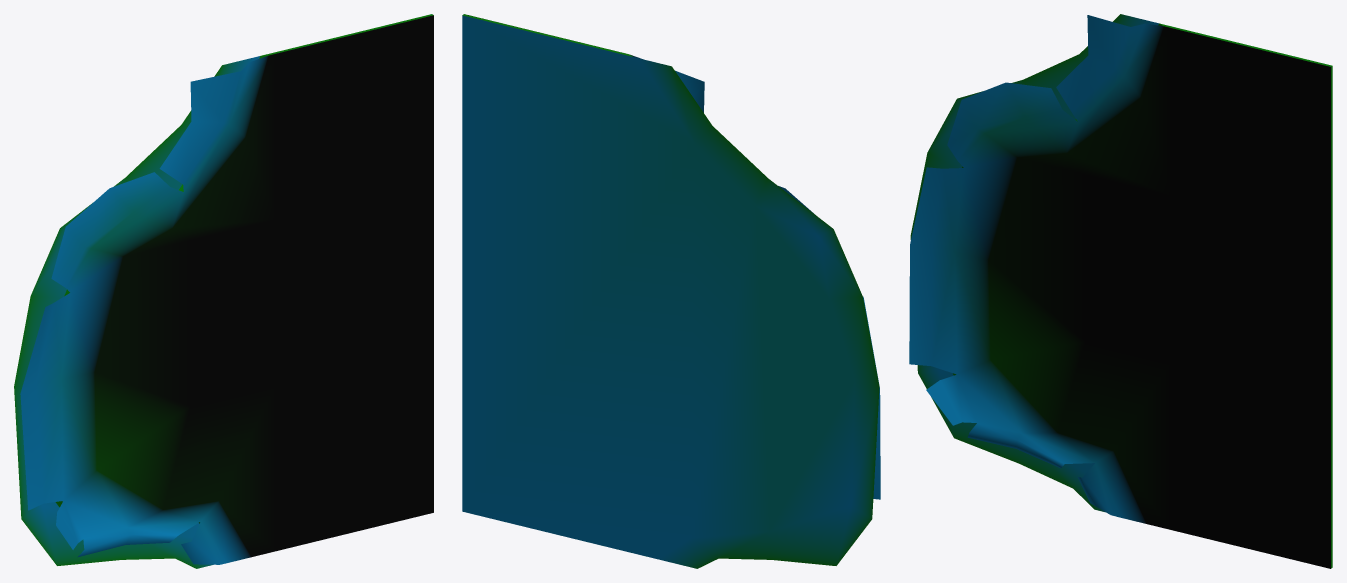
File: DBK_Drywall_Side_A_Single_Mirror.fbx
3 renders of one model, left to right at view 1: azimuth 30°, elevation 25°; view 2: azimuth 150°, elevation 25°; view 3: azimuth 330°, elevation 25°, orthographic.
Visible parts, largest first — view 1: DBK_Drywall_Side_A_Single_Mirror; view 2: DBK_Drywall_Side_A_Single_Mirror; view 3: DBK_Drywall_Side_A_Single_Mirror.
Boxes of the visible parts, box(x1,y1,x2,y2) form: DBK_Drywall_Side_A_Single_Mirror: box(14, 14, 433, 568); DBK_Drywall_Side_A_Single_Mirror: box(462, 14, 880, 568); DBK_Drywall_Side_A_Single_Mirror: box(909, 14, 1332, 568).
Size of what is drawn, in the model's own units: 264 by 300 by 14.61.
